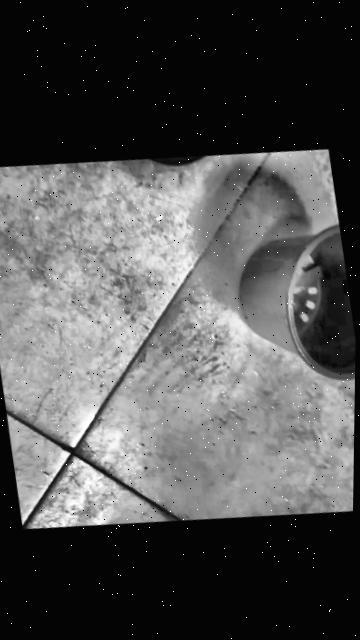pot: (226, 212, 357, 395)
